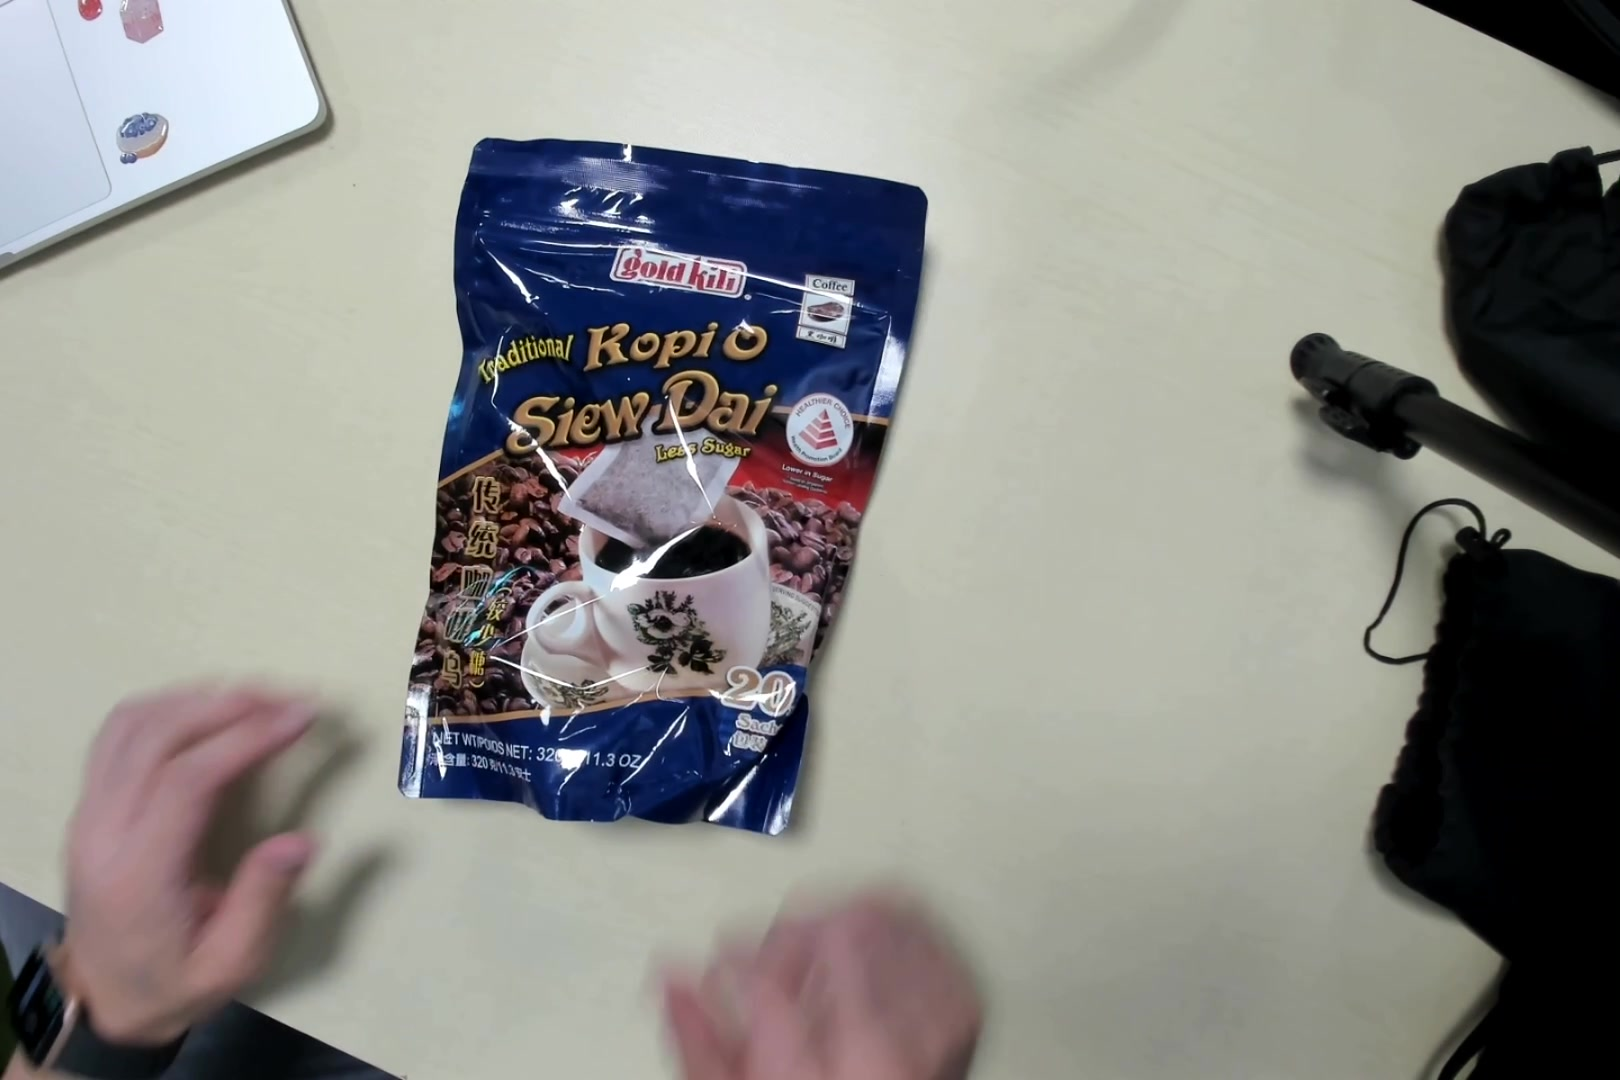Coffee(Powder)_300-399g_Halal_Healthy: (407, 141, 896, 838)
